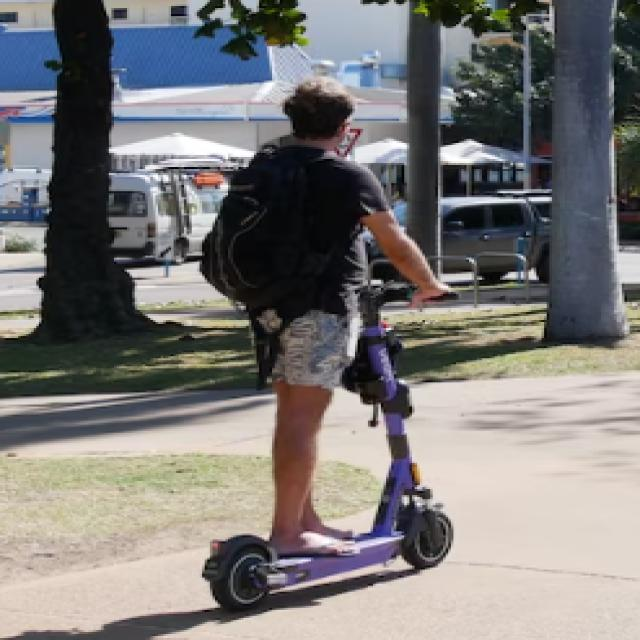non-helmet: (156, 69, 462, 621)
